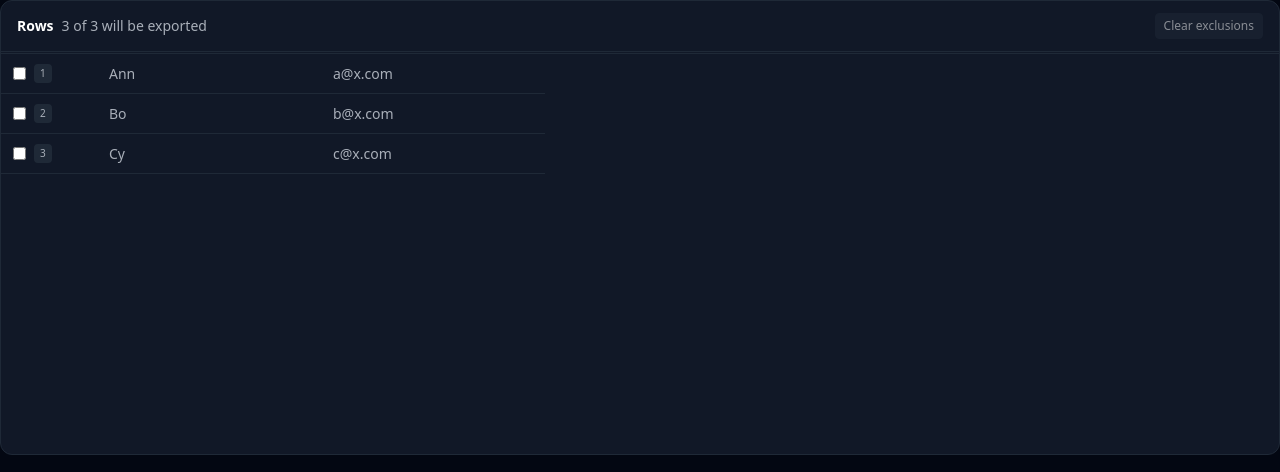
Scenario: RowExclusionPanel › Clear exclusions empties the set and is disabled while none exist
Expected: the button "Clear exclusions" is disabled, [1155,13,1263,39]
Click the checkbox named "Exclude row 3". click: (20, 154)
box: [13,147,26,160]
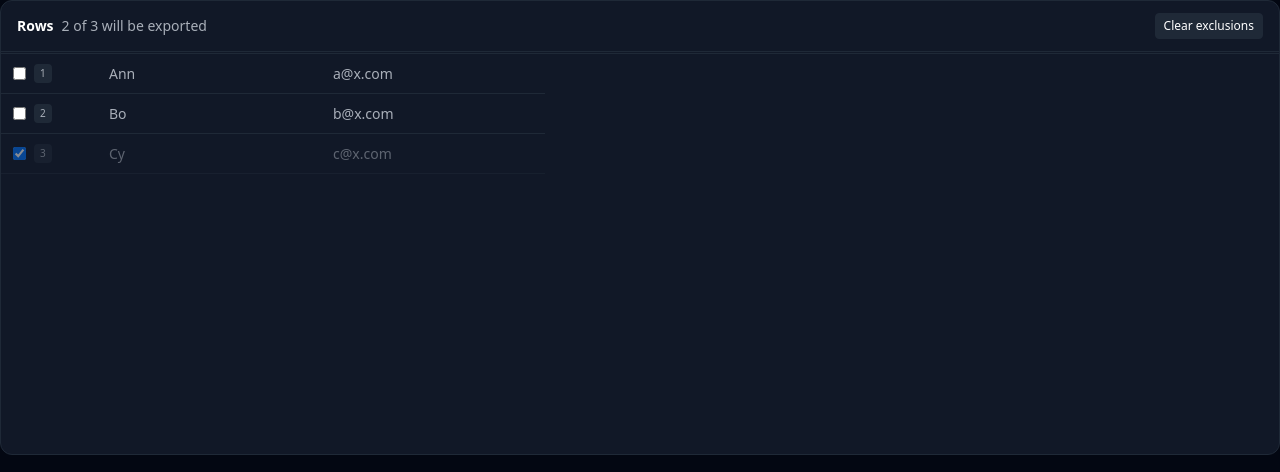
Expected: the button "Clear exclusions" is enabled
Click the button "Clear exclusions". click: (1209, 26)
box: [1155,13,1263,39]
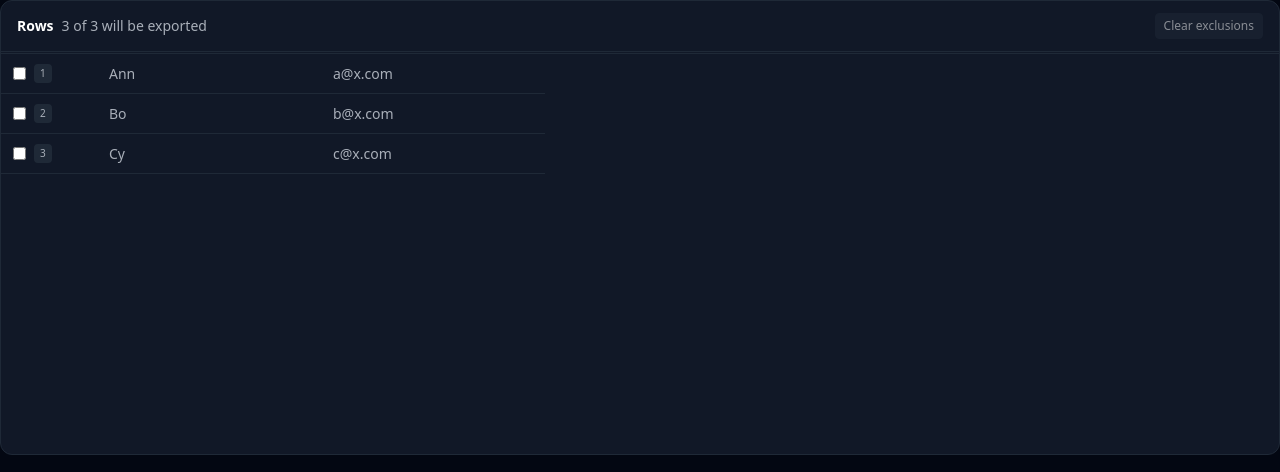
Expected: the checkbox named "Exclude row 3" is not checked, [13,147,26,160]
Expected: the text "3 of 3 will be exported" is shown, [62,16,207,35]
